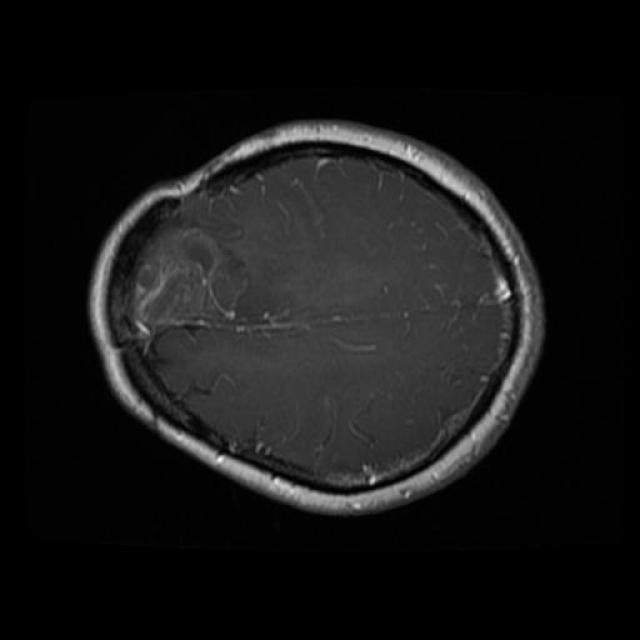Glioma: (122, 224, 245, 353)
